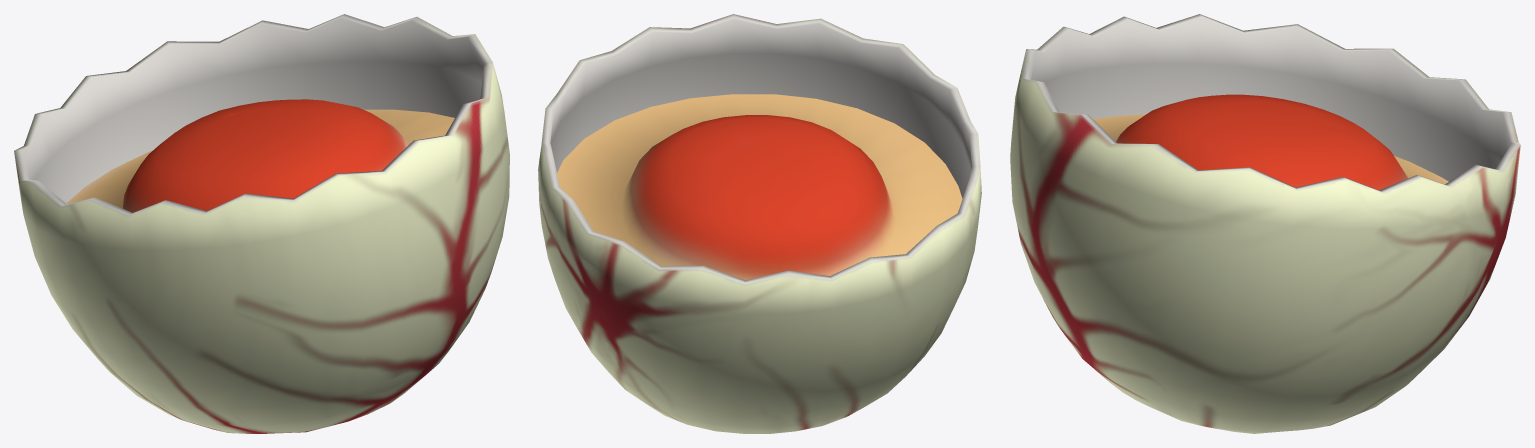
The model's file is OvoDeDragão_cortado.fbx.
3 renders of one model, left to right at view 1: azimuth 30°, elevation 25°; view 2: azimuth 150°, elevation 25°; view 3: azimuth 270°, elevation 25°, orthographic. The views are drawn at different scales.
Visible parts, largest first — view 1: OvoDeDragao_cortado; view 2: OvoDeDragao_cortado; view 3: OvoDeDragao_cortado.
Part boxes in pixels (bbox=[...]): OvoDeDragao_cortado: bbox=[14, 14, 509, 433]; OvoDeDragao_cortado: bbox=[538, 14, 981, 433]; OvoDeDragao_cortado: bbox=[1010, 14, 1520, 433].
Size of the model in its own units: 139 by 105 by 139.
1 material, 1 textured.
